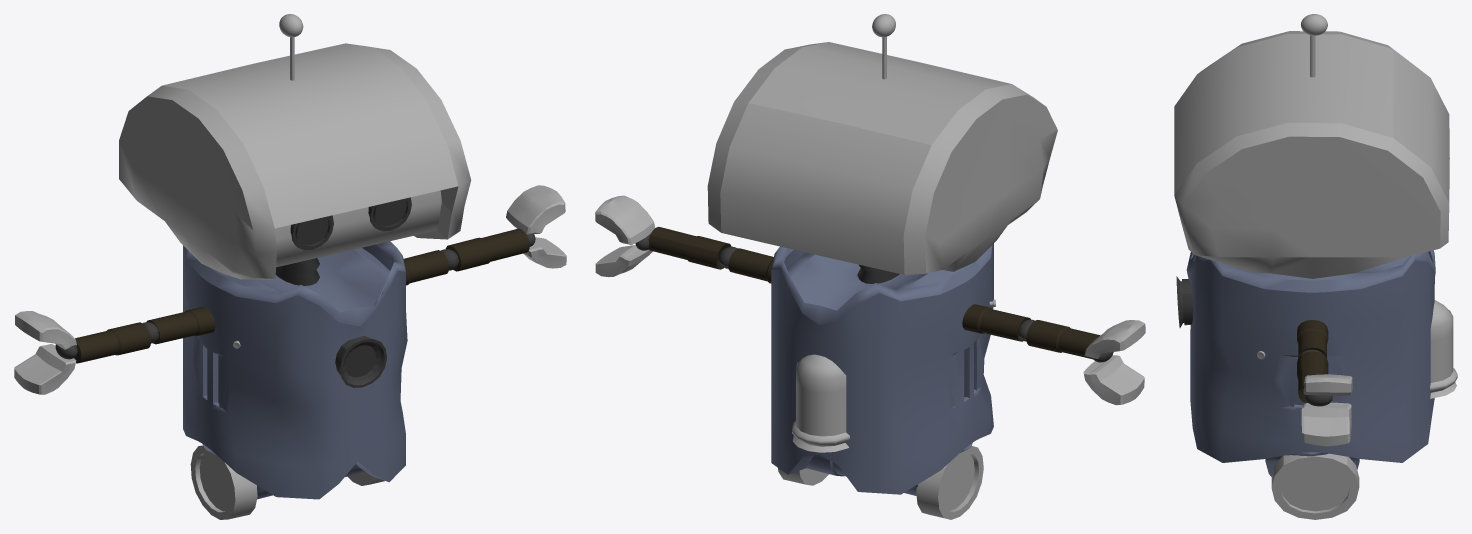
File: Hobbet S-4M-Maya1.fbx
3 views of the same model, side by side, from view 1: azimuth 30°, elevation 25°; view 2: azimuth 150°, elevation 25°; view 3: azimuth 270°, elevation 25° (orthographic). The views are drawn at different scales.
Visible parts, largest first — view 1: polySurface2, Chest, Wheels_2, Scanner, RightHnad_1, RightArm5, RightHnad_2, RightArm8, RightArm9, RightHand_2, Eyes1, RightArm4 (+3 smaller); view 2: polySurface2, Chest, JetPack, Wheels_2, RightHnad_1, RightArm5, RightHnad_2, RightArm8, RightArm9, RightHand_2, RightArm4, RightHand_3; view 3: polySurface2, Chest, Wheels_1, JetPack, RightHand_3, RightHnad_2, RightArm4, RightArm5, Scanner, AntinaBall, Hips2.
Boxes of the visible parts, left/top/right/bottom form: polySurface2: left=119, top=43, right=471, bottom=279; Chest: left=183, top=241, right=407, bottom=499; Wheels_2: left=190, top=445, right=257, bottom=519; Scanner: left=335, top=336, right=386, bottom=387; RightHnad_1: left=14, top=344, right=76, bottom=394; RightArm5: left=445, top=228, right=529, bottom=271; RightHnad_2: left=506, top=185, right=565, bottom=234; RightArm8: left=74, top=322, right=151, bottom=363; RightArm9: left=146, top=306, right=215, bottom=344; RightHand_2: left=15, top=311, right=76, bottom=350; Eyes1: left=290, top=215, right=333, bottom=250; RightArm4: left=403, top=250, right=448, bottom=285; polySurface2: left=707, top=42, right=1057, bottom=274; Chest: left=771, top=243, right=993, bottom=494; JetPack: left=792, top=354, right=849, bottom=452; Wheels_2: left=916, top=446, right=983, bottom=519; RightHnad_1: left=1083, top=355, right=1144, bottom=405; RightArm5: left=648, top=226, right=731, bottom=269; RightHnad_2: left=595, top=195, right=655, bottom=245; RightArm8: left=1026, top=320, right=1100, bottom=359; RightArm9: left=962, top=304, right=1030, bottom=341; RightHand_2: left=1084, top=320, right=1145, bottom=358; RightArm4: left=728, top=248, right=773, bottom=283; RightHand_3: left=595, top=245, right=652, bottom=277; polySurface2: left=1174, top=31, right=1449, bottom=278; Chest: left=1186, top=250, right=1435, bottom=462; Wheels_1: left=1271, top=453, right=1359, bottom=519; JetPack: left=1430, top=300, right=1457, bottom=398; RightHand_3: left=1301, top=402, right=1351, bottom=446; RightHnad_2: left=1303, top=374, right=1352, bottom=395; RightArm4: left=1297, top=320, right=1328, bottom=357; RightArm5: left=1297, top=351, right=1328, bottom=403; Scanner: left=1176, top=276, right=1193, bottom=327; AntinaBall: left=1301, top=14, right=1327, bottom=35; Hips2: left=1265, top=452, right=1359, bottom=476.
Size of the model in its own units: 99.49 by 85.84 by 47.39.
